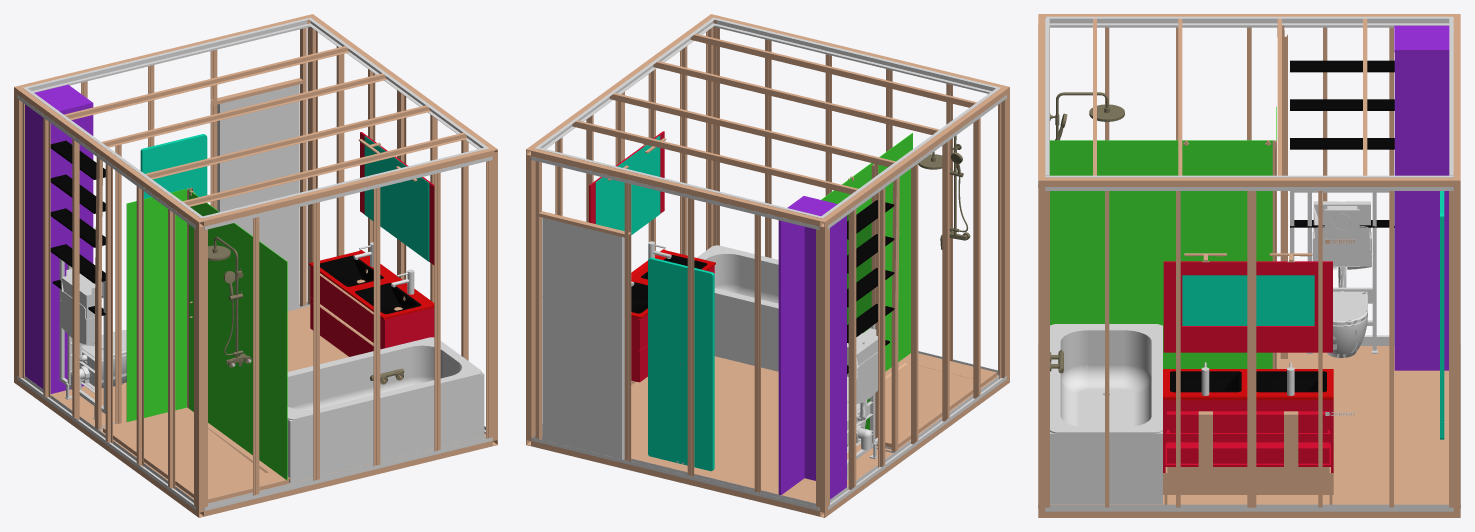
The model's file is Big_bathroom.gltf.
The picture shows the model from 3 angles, left to right: view 1: azimuth 30°, elevation 25°; view 2: azimuth 150°, elevation 25°; view 3: azimuth 270°, elevation 25°; orthographic projection. The views are drawn at different scales.
Parts seen in each view (by area): view 1: GVH_h2_Staal_Generiek, Generic, STROHM_TEKA___Glass, object 24, TEKA_Mineral___White__W__Slate, object 7, Miroir, vloerbekleding___tegels___lijm, gipskarton___voorzetwanden, Color_RGB_246_246_246, Copolyester, Color_RGB_255_255_255 (+4 smaller); view 2: GVH_h2_Staal_Generiek, Generic, object 24, Color_RGB_246_246_246, vloerbekleding___tegels___lijm, STROHM_TEKA___Glass, TEKA_Mineral___White__W__Slate, Miroir, gipskarton___voorzetwanden, object 7, Color_RGB_255_255_255, STROHM_Metal_Chrome (+3 smaller); view 3: GVH_h2_Staal_Generiek, Generic, STROHM_TEKA___Glass, vloerbekleding___tegels___lijm, object 7, object 24, Miroir, object 8, gipskarton___voorzetwanden, Color_RGB_255_255_255, Copolyester, Blanc_Brillant (+6 smaller).
Part boxes in pixels (left/top/right/bottom): GVH_h2_Staal_Generiek: left=14, top=14, right=497, bottom=517; Generic: left=17, top=17, right=492, bottom=510; STROHM_TEKA___Glass: left=126, top=189, right=287, bottom=480; object 24: left=25, top=104, right=93, bottom=393; TEKA_Mineral___White__W__Slate: left=103, top=407, right=288, bottom=503; object 7: left=310, top=132, right=434, bottom=356; Miroir: left=364, top=136, right=429, bottom=261; vloerbekleding___tegels___lijm: left=50, top=306, right=485, bottom=502; gipskarton___voorzetwanden: left=50, top=140, right=105, bottom=315; Color_RGB_246_246_246: left=140, top=134, right=207, bottom=198; Copolyester: left=320, top=255, right=421, bottom=314; Color_RGB_255_255_255: left=60, top=269, right=102, bottom=361; GVH_h2_Staal_Generiek: left=526, top=14, right=1009, bottom=517; Generic: left=531, top=17, right=1006, bottom=510; object 24: left=778, top=215, right=846, bottom=499; Color_RGB_246_246_246: left=648, top=257, right=714, bottom=471; vloerbekleding___tegels___lijm: left=542, top=356, right=998, bottom=503; STROHM_TEKA___Glass: left=821, top=133, right=912, bottom=429; TEKA_Mineral___White__W__Slate: left=885, top=353, right=996, bottom=447; Miroir: left=595, top=135, right=660, bottom=234; gipskarton___voorzetwanden: left=847, top=200, right=894, bottom=373; object 7: left=589, top=131, right=714, bottom=382; Color_RGB_255_255_255: left=847, top=328, right=877, bottom=421; STROHM_Metal_Chrome: left=918, top=135, right=970, bottom=249; GVH_h2_Staal_Generiek: left=1038, top=14, right=1460, bottom=517; Generic: left=1038, top=16, right=1460, bottom=511; STROHM_TEKA___Glass: left=1049, top=106, right=1276, bottom=368; vloerbekleding___tegels___lijm: left=1050, top=346, right=1448, bottom=504; object 7: left=1163, top=261, right=1333, bottom=472; object 24: left=1394, top=52, right=1449, bottom=370; Miroir: left=1182, top=275, right=1314, bottom=325; object 8: left=1163, top=467, right=1333, bottom=504; gipskarton___voorzetwanden: left=1290, top=60, right=1394, bottom=227; Color_RGB_255_255_255: left=1312, top=201, right=1371, bottom=291; Copolyester: left=1170, top=371, right=1326, bottom=392; Blanc_Brillant: left=1163, top=369, right=1333, bottom=400.
Size of the model in its own units: 12.02 by 10.31 by 11.7.
